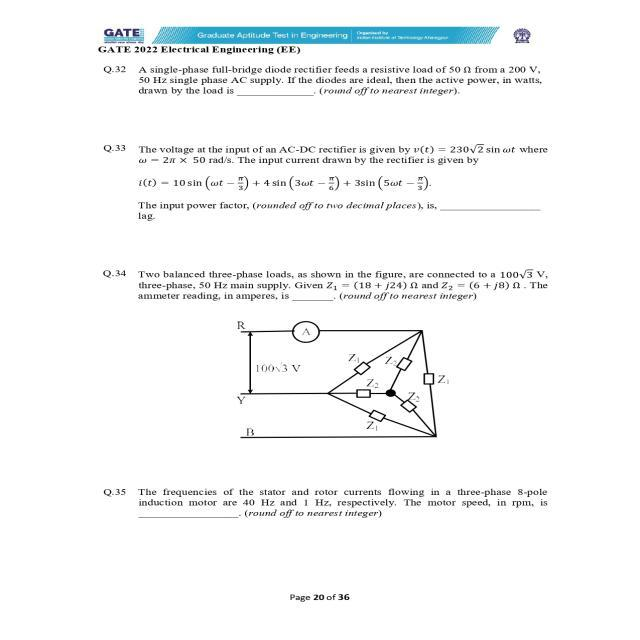Question_Answer_Block: (79, 268, 574, 452), (72, 143, 570, 225), (77, 471, 572, 526), (71, 66, 568, 106)
Question_Block: (75, 263, 575, 452), (71, 140, 574, 224), (77, 470, 570, 526), (71, 62, 566, 105)
Question_Paper_Area: (76, 45, 574, 529)
